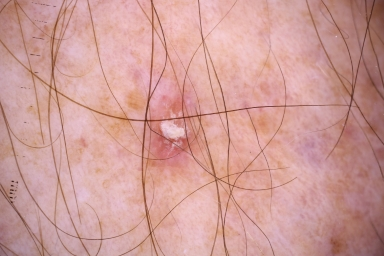melanoma: (153, 95, 198, 164)
